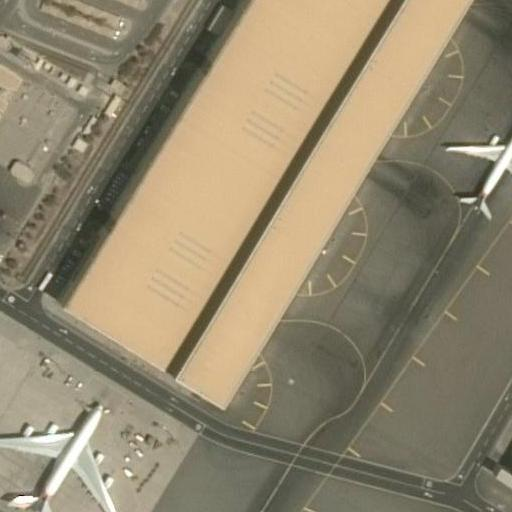Aircraft: (0, 399, 127, 512), (440, 117, 512, 223)
